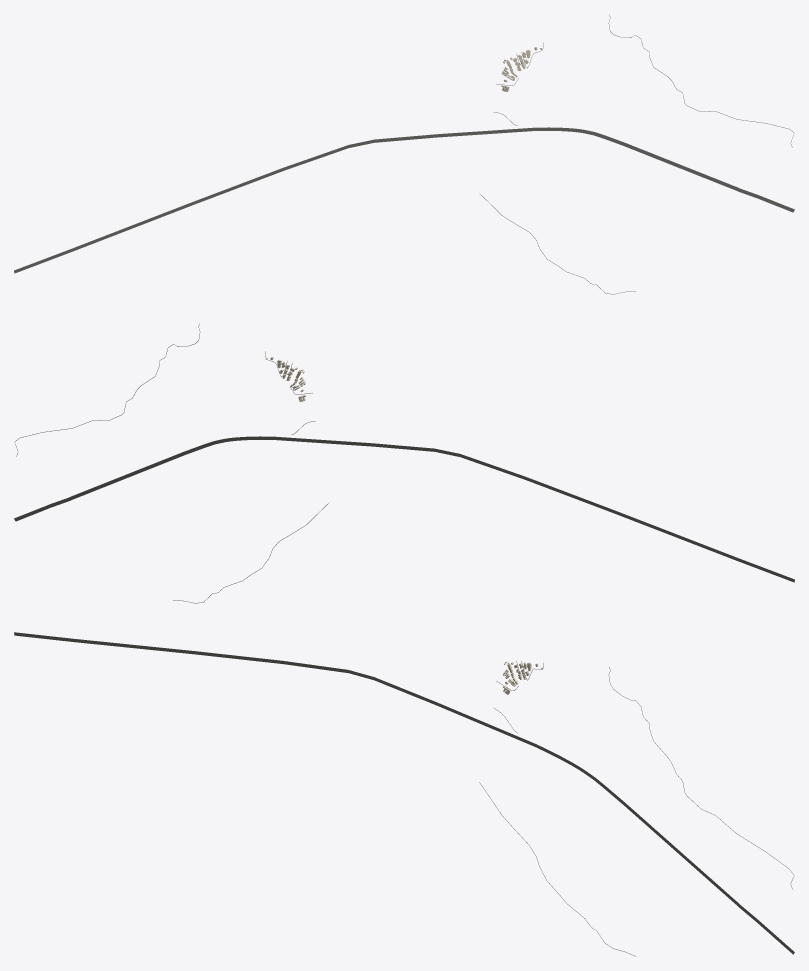
The model's file is historic-palestine-08_27_3502_3210.glb.
3 renders of one model, top to bottom at view 1: azimuth 30°, elevation 25°; view 2: azimuth 150°, elevation 25°; view 3: azimuth 330°, elevation 25°, orthographic.
Parts seen in each view (by area): view 1: Road חוצה שומרון; view 2: Road חוצה שומרון; view 3: Road חוצה שומרון.
Boxes of the visible parts, box(x1,y1,x2,y2) form: Road חוצה שומרון: box(14, 127, 794, 273); Road חוצה שומרון: box(14, 436, 794, 582); Road חוצה שומרון: box(14, 632, 794, 954).
Size of the model in its own units: 2996 by 1039 by 8.7.
